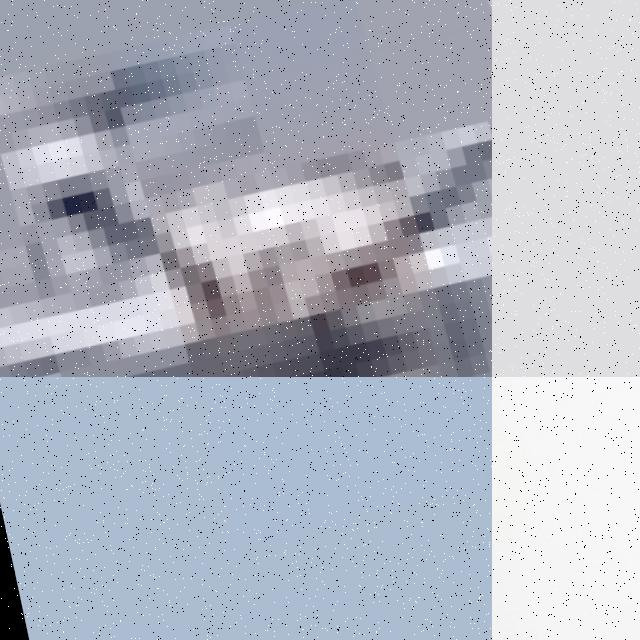0: (0, 0, 492, 377)
drone: (492, 377, 640, 640)
